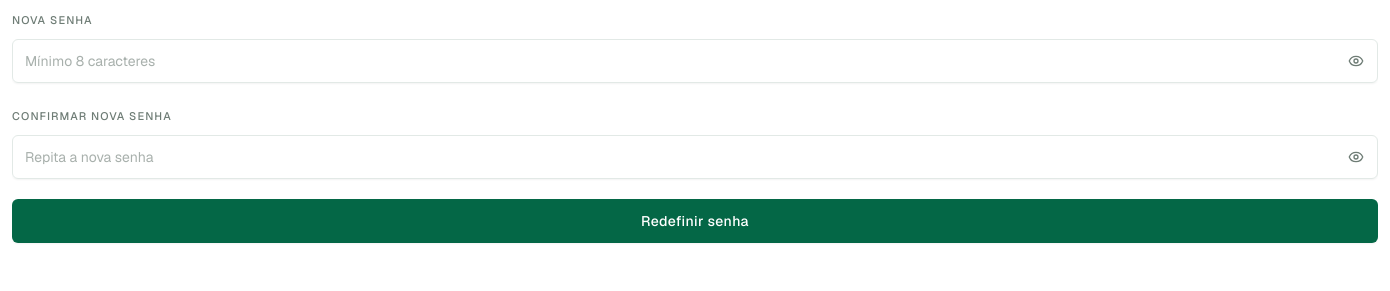
it: <PasswordResetConfirmForm /> › em WEAK_PASSWORD exibe erro no campo nova senha
Type "novasenha123" into the password field labelled "Nova senha" at (695, 61), box [12,39,1378,83]
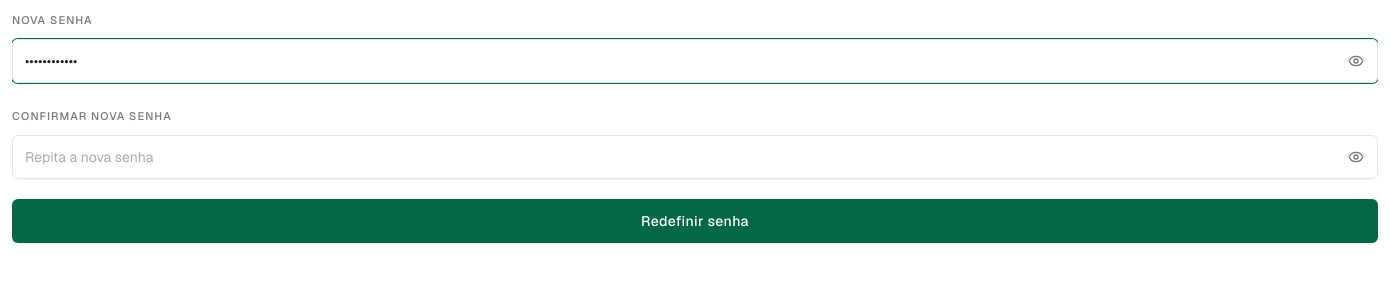
Type "novasenha123" into the password field labelled "Confirmar nova senha" at (695, 157), box [12,135,1378,179]
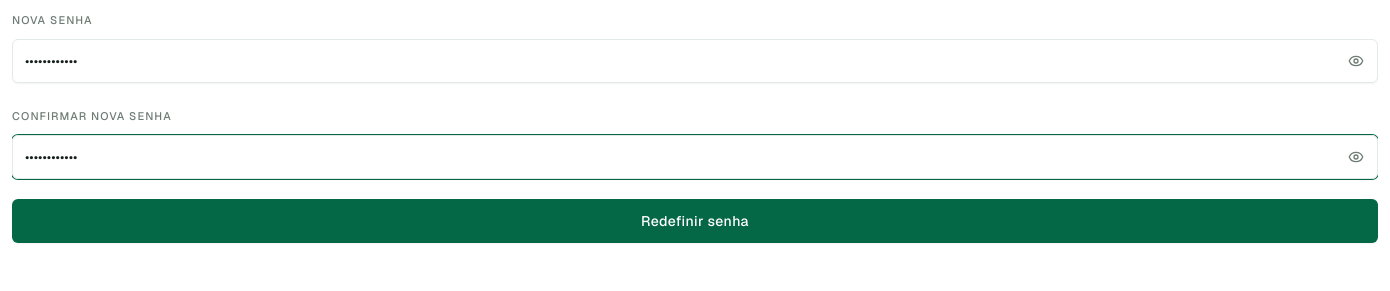
Click the button "Redefinir senha" at (695, 221), box [12,199,1378,243]
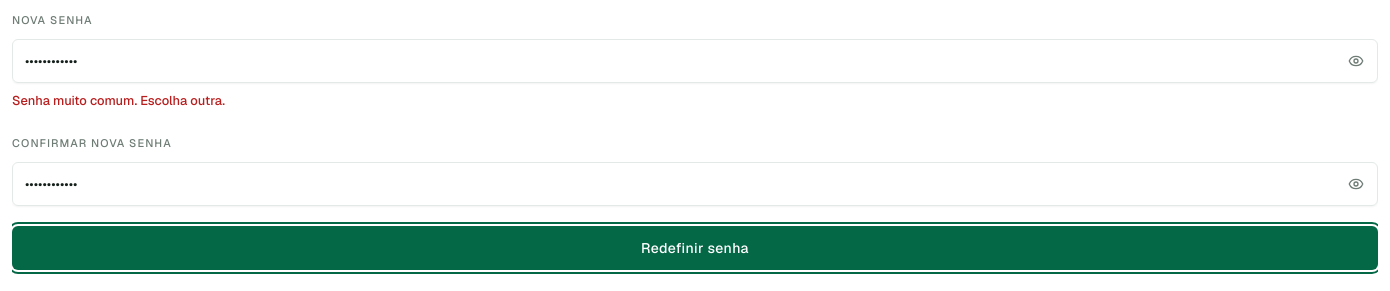
Expected: the text "Senha muito comum. Escolha outra." is shown, [12,92,225,109]
